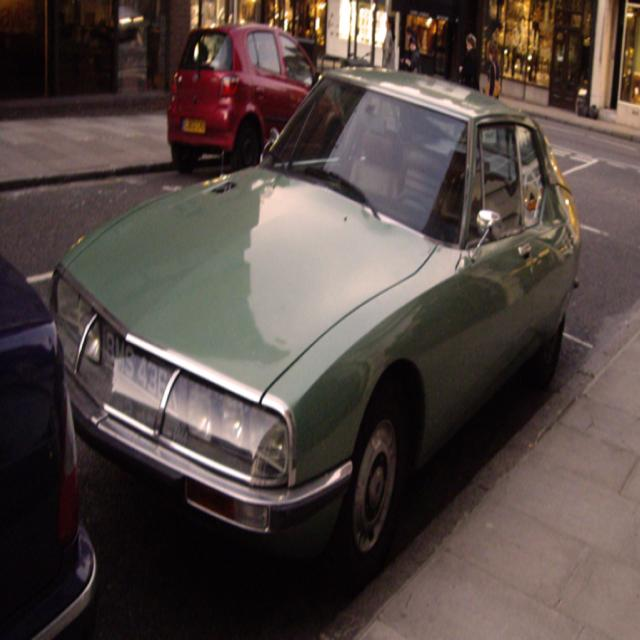car: (47, 61, 584, 582)
